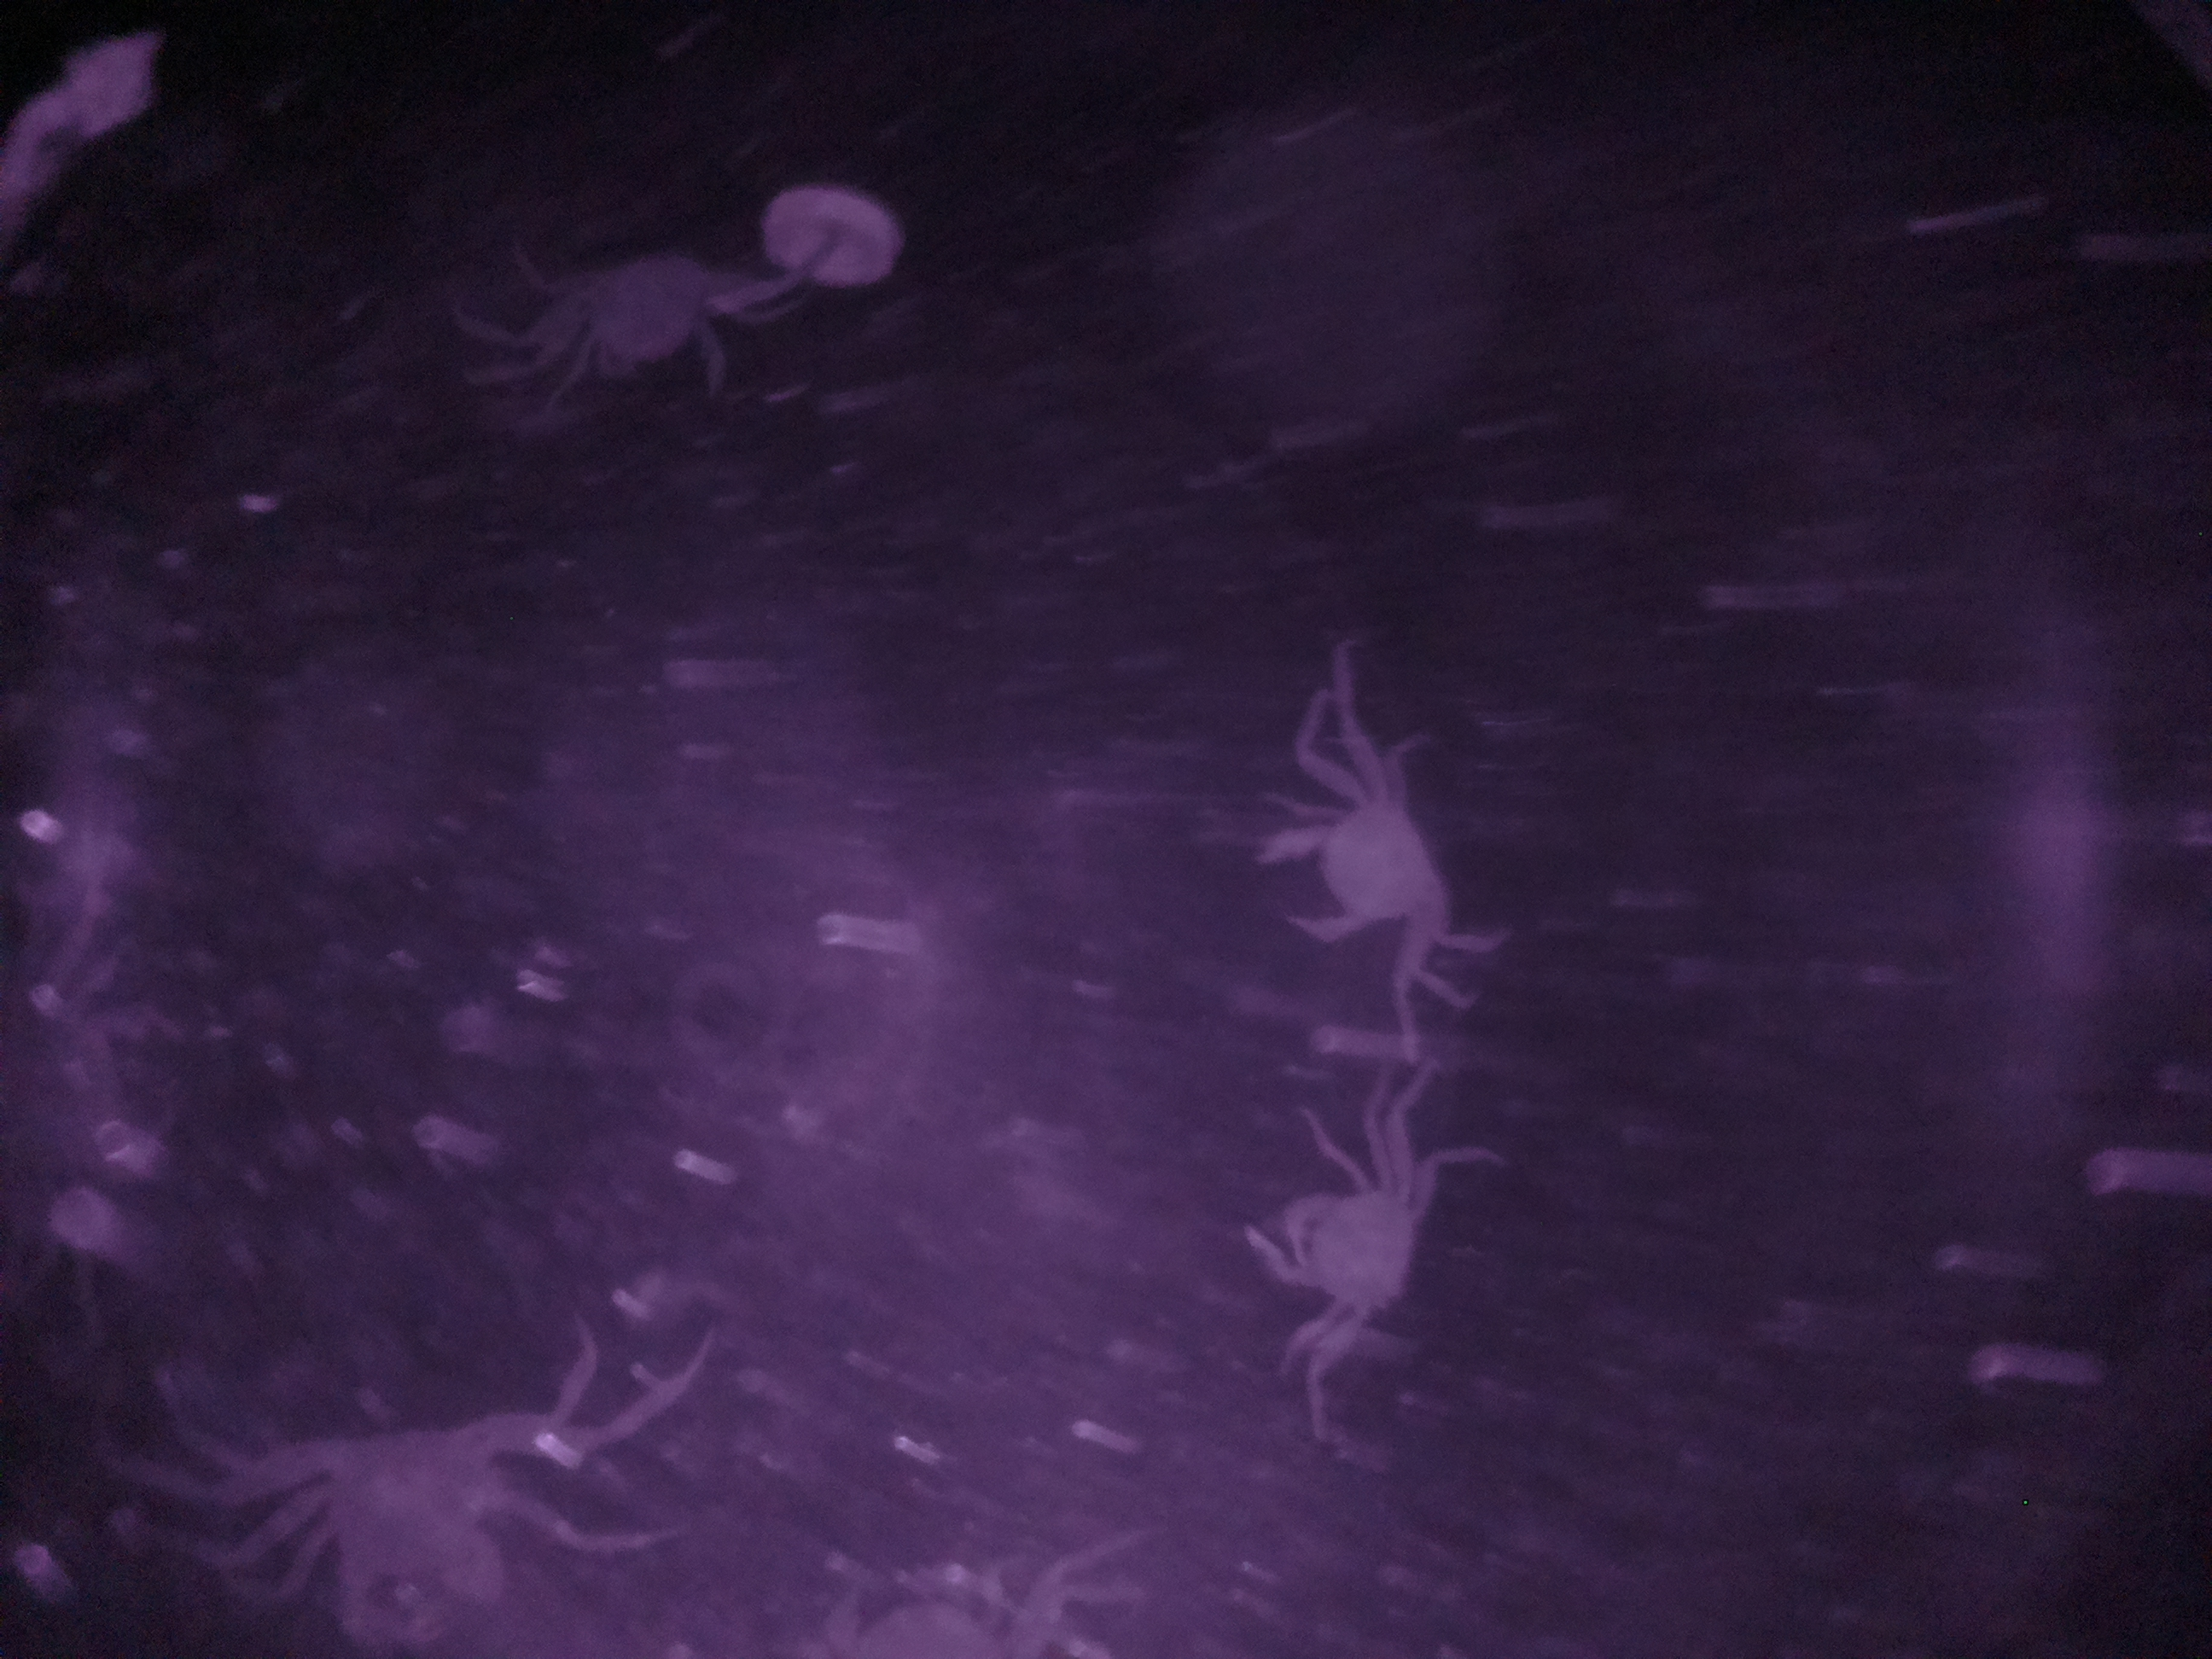Crab: (1249, 746, 1479, 997), (1228, 1126, 1446, 1371)
